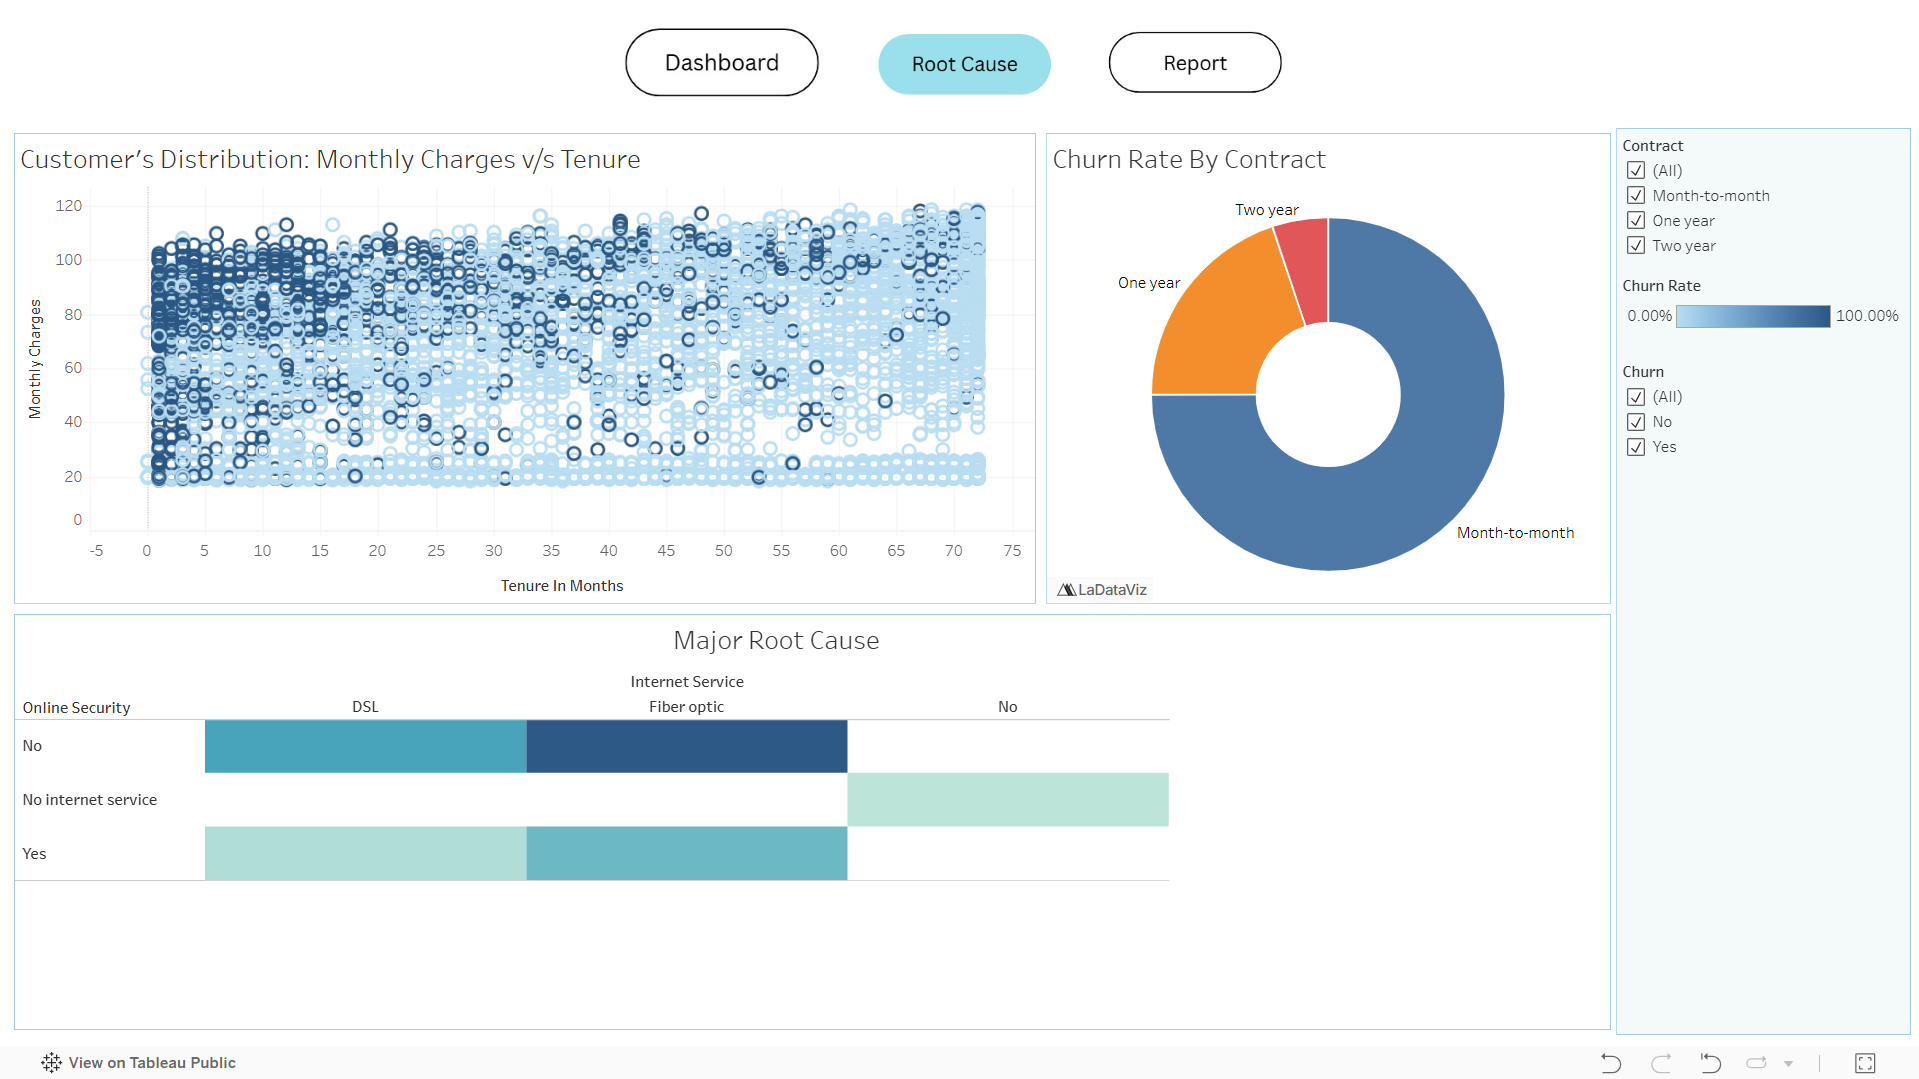

This screenshot's page, from the dashboard's own definition file:
{"tool":"tableau","page":{"name":"Root Causes ","canvas":[1000,1000],"units":"permille","ordinal":2},"visuals":[{"type":"dashboard-object","box":[320.5,14,113.5,98.1]},{"type":"dashboard-object","box":[573.6,19.1,97,79]},{"type":"dashboard-object","box":[444.1,20.4,110,86.6]},{"type":"worksheet","title":"Customer's Distribution","mark":"Automatic","rows":["MonthlyCharges"],"cols":["tenure_in_months"],"box":[4.7,122.3,579,459.9]},{"type":"worksheet","title":"Churn Rate By Contract","box":[583.7,122.3,272,459.9]},{"type":"filter","title":"Customer's Distribution","param":"[federated.160kjus1haz5vq1bp6s7h1a38gwb].[none:Contract:nk]","box":[856.3,123.6,138.4,163.1]},{"type":"legend","title":"Customer's Distribution","param":"[federated.160kjus1haz5vq1bp6s7h1a38gwb].[usr:Calculation_1625683474870273:qk]","box":[856.3,286.6,138.4,93]},{"type":"filter","title":"Customer's Distribution","param":"[federated.160kjus1haz5vq1bp6s7h1a38gwb].[none:Churn:nk]","box":[856.3,379.6,138.4,133.8]},{"type":"worksheet","title":"Major Root Cause","mark":"Square","rows":["OnlineSecurity"],"cols":["InternetService"],"box":[4.7,582.2,851,407.6]}]}

Visuals, with their boxes on the dashboard's canvas, which has no fixed pixel size, in thousandths of its width and height (x1, y1, x2, y2). These are canvas units, not pixel positions in the 1919x1079 screenshot, which may show the page scaled, cropped or inside an application window:
dashboard-object: left=320, top=14, right=434, bottom=112
dashboard-object: left=574, top=19, right=671, bottom=98
dashboard-object: left=444, top=20, right=554, bottom=107
"Customer's Distribution" worksheet: left=5, top=122, right=584, bottom=582
"Churn Rate By Contract" worksheet: left=584, top=122, right=856, bottom=582
"Customer's Distribution" filter: left=856, top=124, right=995, bottom=287
"Customer's Distribution" legend: left=856, top=287, right=995, bottom=380
"Customer's Distribution" filter: left=856, top=380, right=995, bottom=513
"Major Root Cause" worksheet (Square marks): left=5, top=582, right=856, bottom=990
